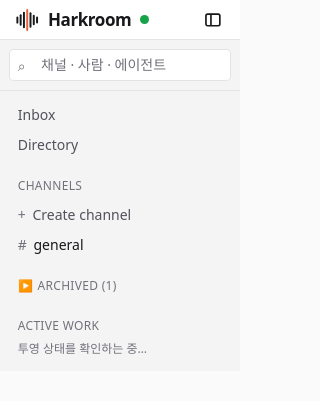
Test case: 채널 보관 UI (#153) › 보관된 채널은 일반 목록이 아니라 보관 섹션에 있다
Expected: the text "old-project" is not shown
Expected: the button "# general" is shown, left=9, top=229, right=231, bottom=259
Click the button "▶ Archived (1)" at (120, 288), box left=9, top=277, right=231, bottom=300
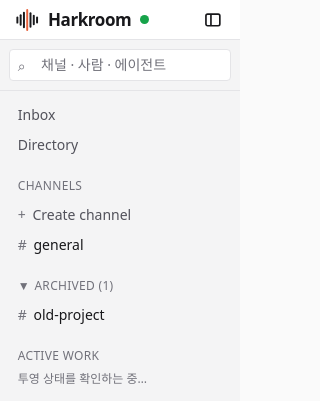
Now the button "# old-project" is shown, box left=9, top=300, right=231, bottom=329
